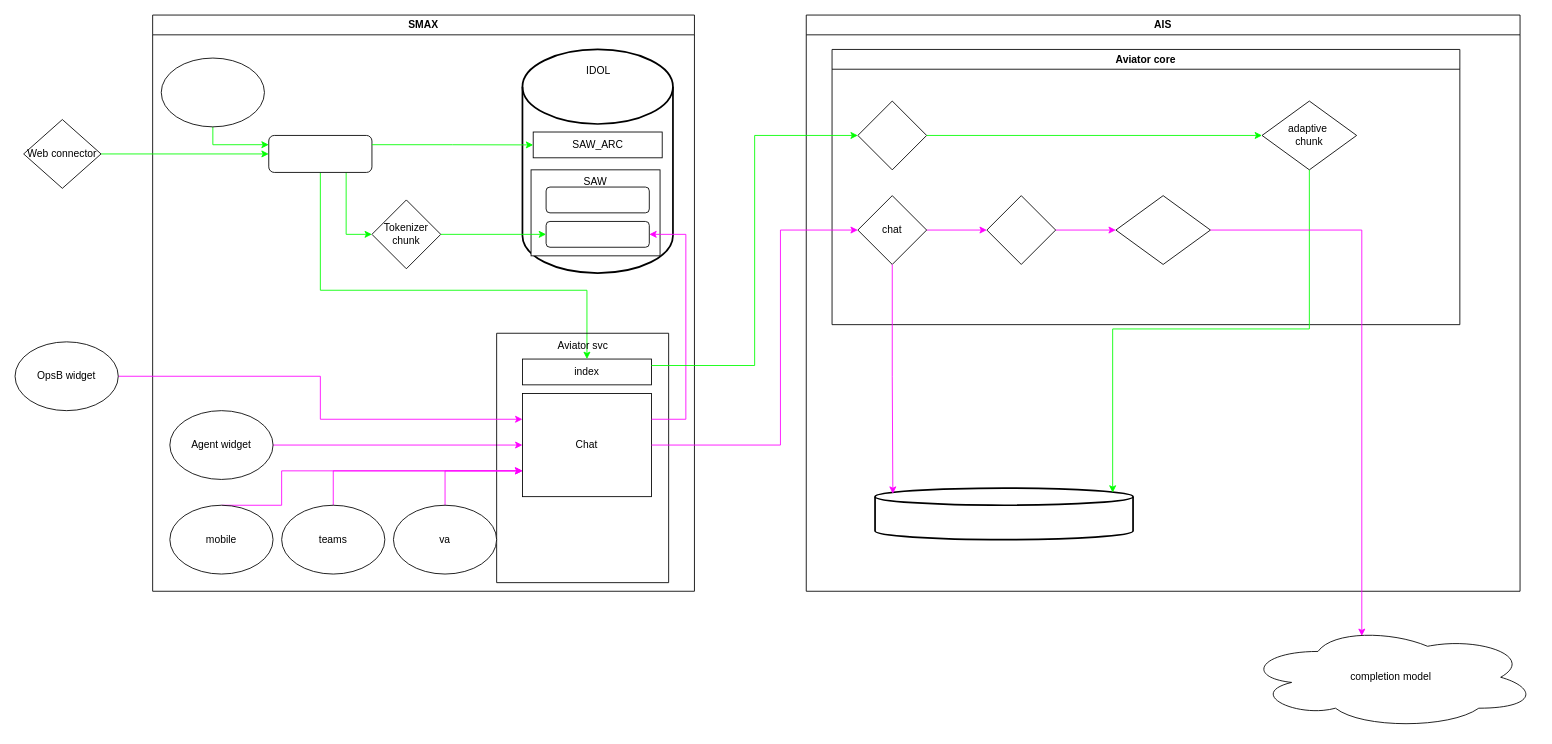
Image size: 1552x744. Some labels were removed from this diagram. The shapes that lost their labels are listed below. From the top down, each one's centre as x and y in pixels, then its label:
[212,92]: EMS data
[320,153]: index worker
[892,135]: index doc
[597,199]: xservice_idol_xxx
[597,234]: aviator_idol_xxx
[1021,229]: re-rank
[1162,229]: de-duplication
[1003,513]: VDB
